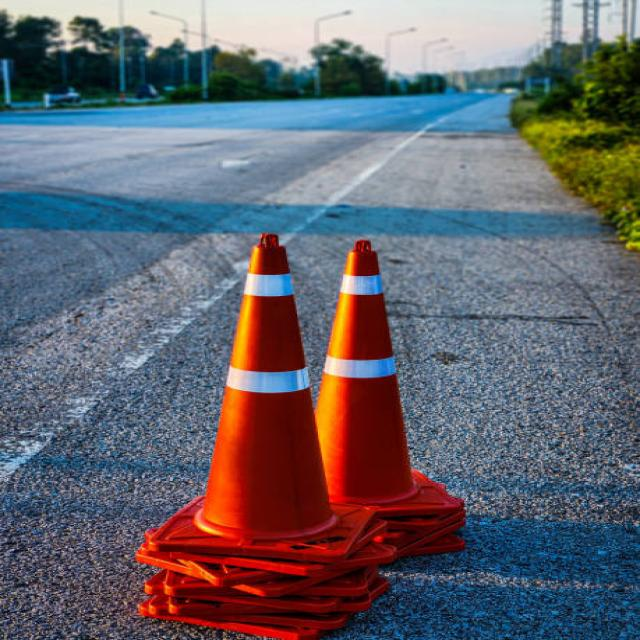Traffic Cone: (144, 225, 360, 551), (314, 228, 456, 509)
